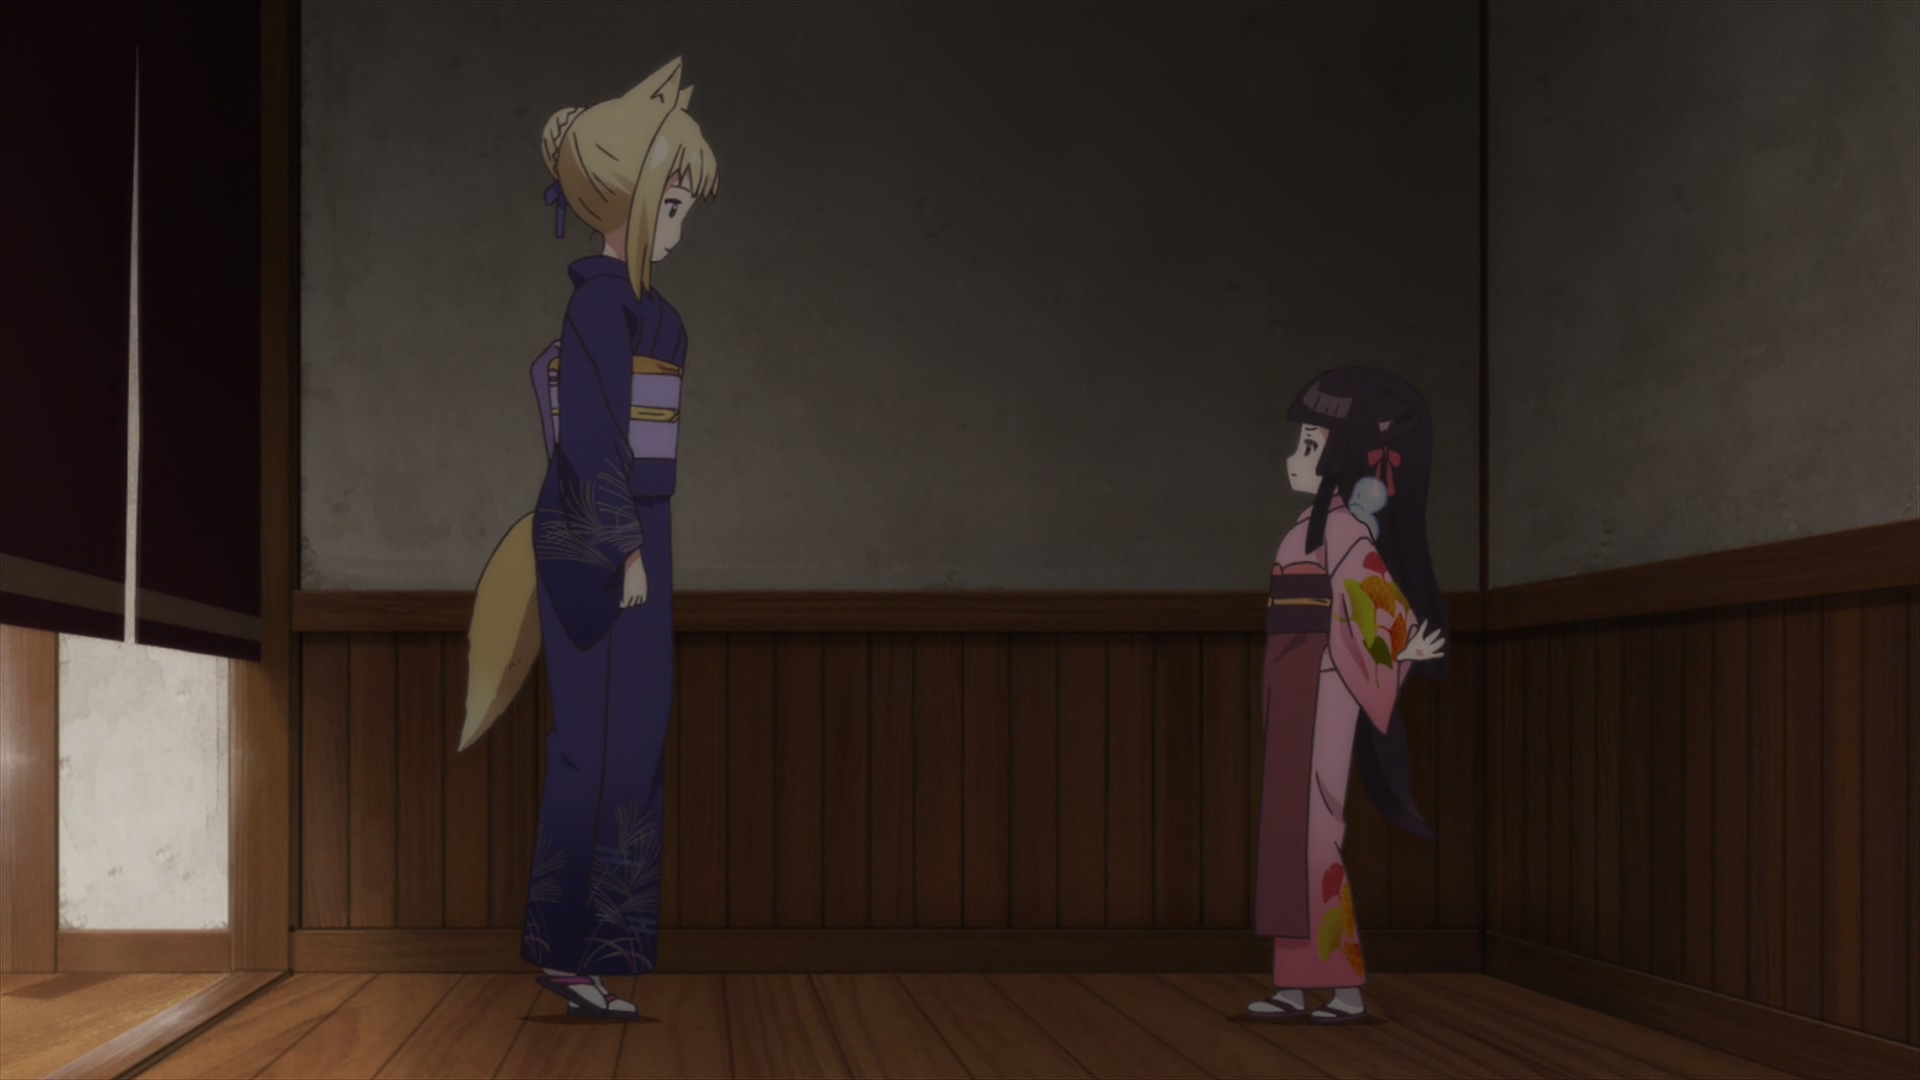桐: (462, 55, 719, 1022)
樱: (1244, 368, 1452, 1027)
